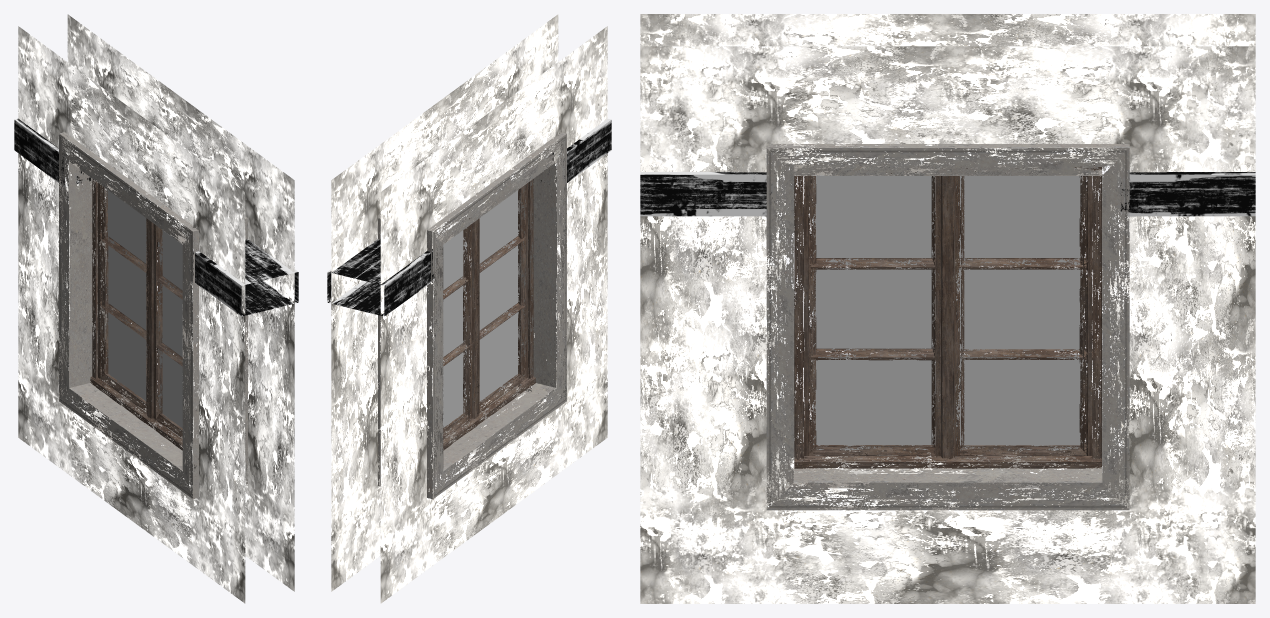
Rendered from SM_wall_A_window_4x4_01_02.fbx.
3 renders of one model, left to right at view 1: azimuth 30°, elevation 25°; view 2: azimuth 150°, elevation 25°; view 3: azimuth 270°, elevation 25°, orthographic. The views are drawn at different scales.
Parts seen in each view (by area): view 1: SM_wall_A_window_4x4_01_02_LOD0; view 2: SM_wall_A_window_4x4_01_02_LOD0; view 3: SM_wall_A_window_4x4_01_02_LOD0.
Boxes of the visible parts, <box> form: SM_wall_A_window_4x4_01_02_LOD0: <box>14,14,298,603</box>; SM_wall_A_window_4x4_01_02_LOD0: <box>327,14,611,603</box>; SM_wall_A_window_4x4_01_02_LOD0: <box>640,14,1255,603</box>.
Size of the model in its own units: 62.17 by 400 by 400.
Materials: 6 (5 with a texture image).
